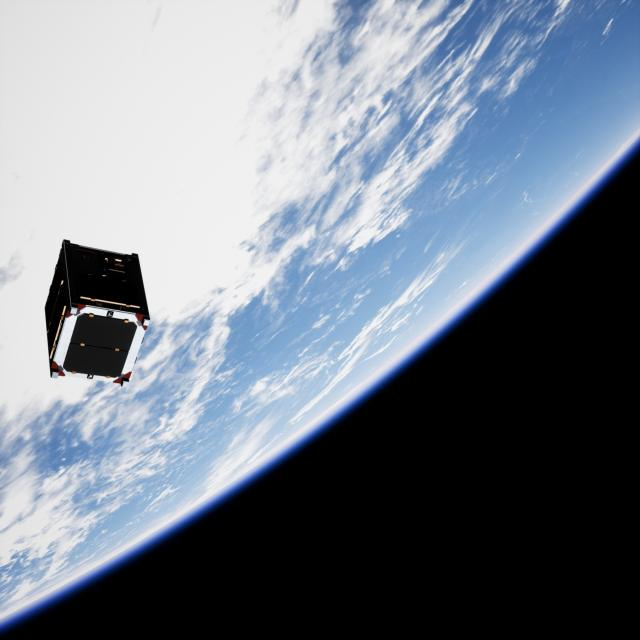medium_debris: (43, 236, 152, 394)
